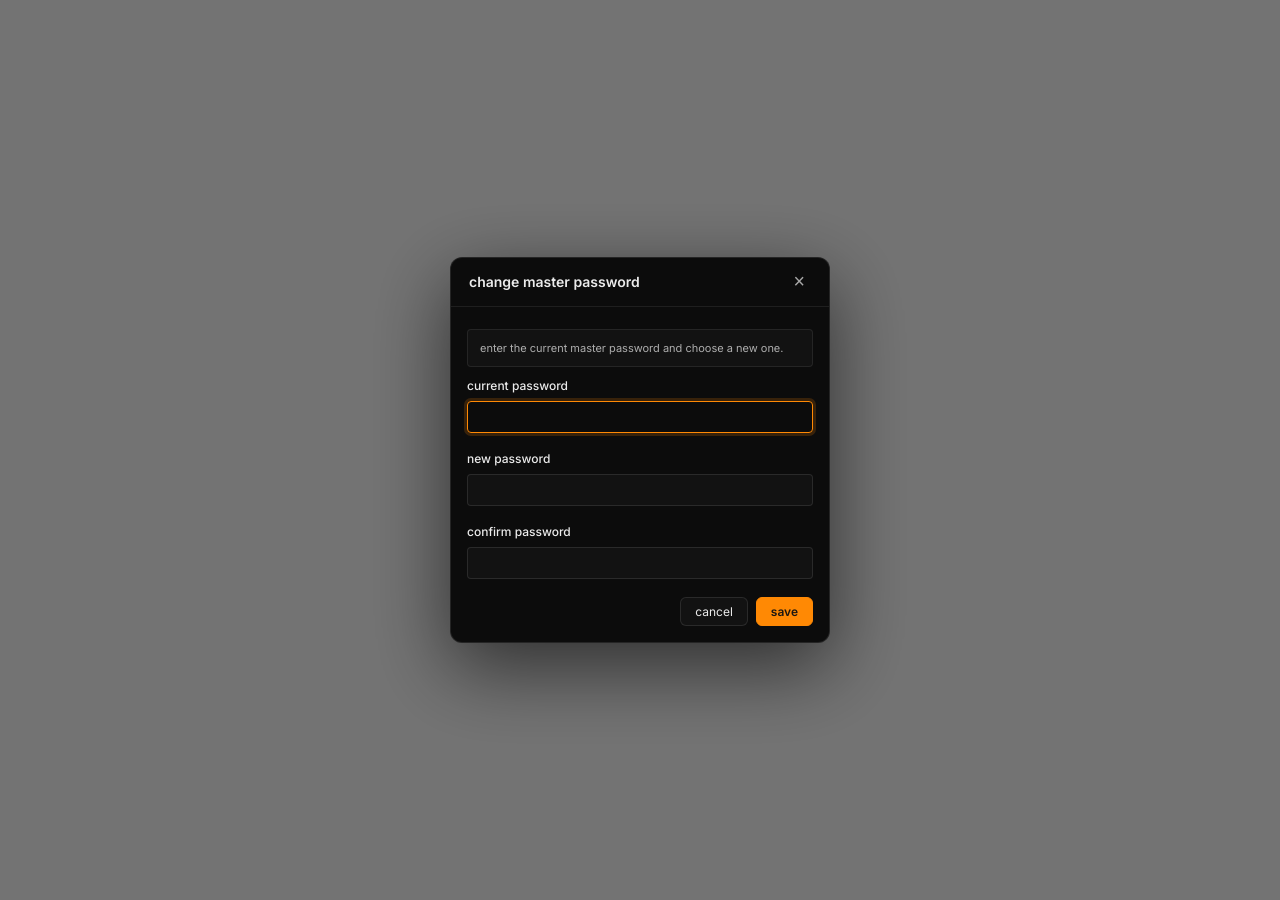
Test: MasterPasswordModal - change mode › missing current password errors
In the password field with class "settings-input" below "new password": {"x": 640, "y": 490} [467, 474, 813, 506], type "longenough"
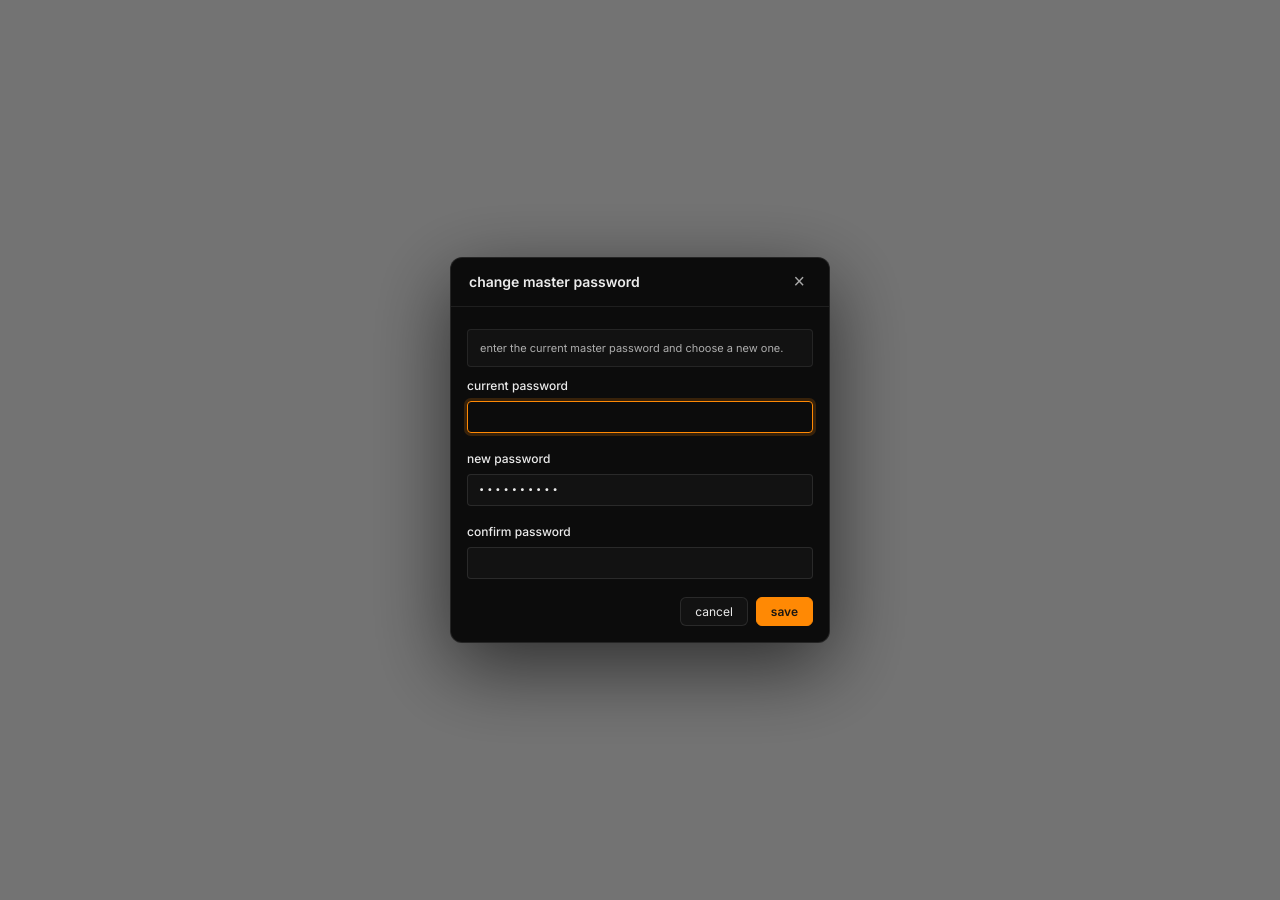
In the password field with class "settings-input" below "confirm password": {"x": 640, "y": 563} [467, 547, 813, 579], type "longenough"
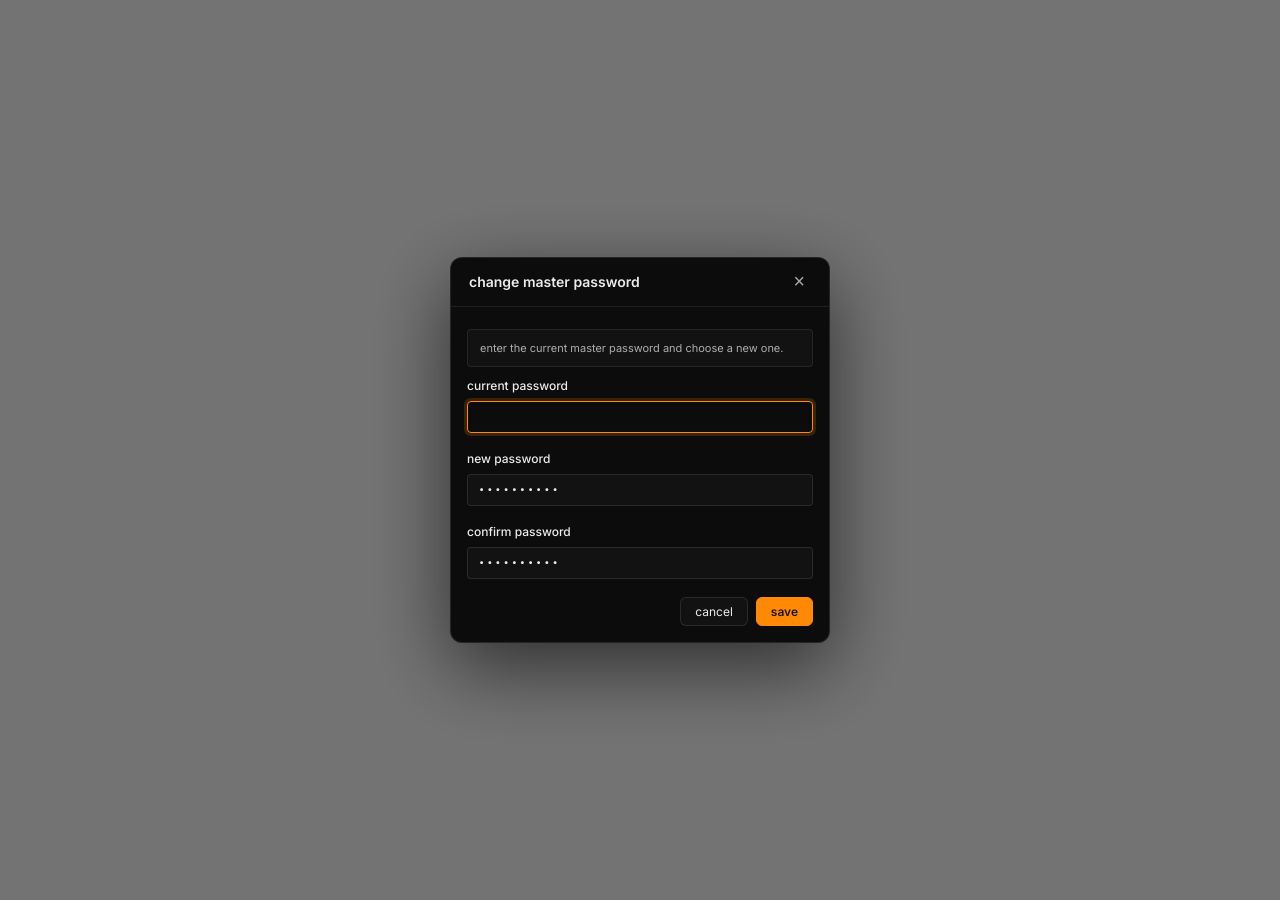
Click the button "save": {"x": 784, "y": 612} [756, 597, 813, 626]
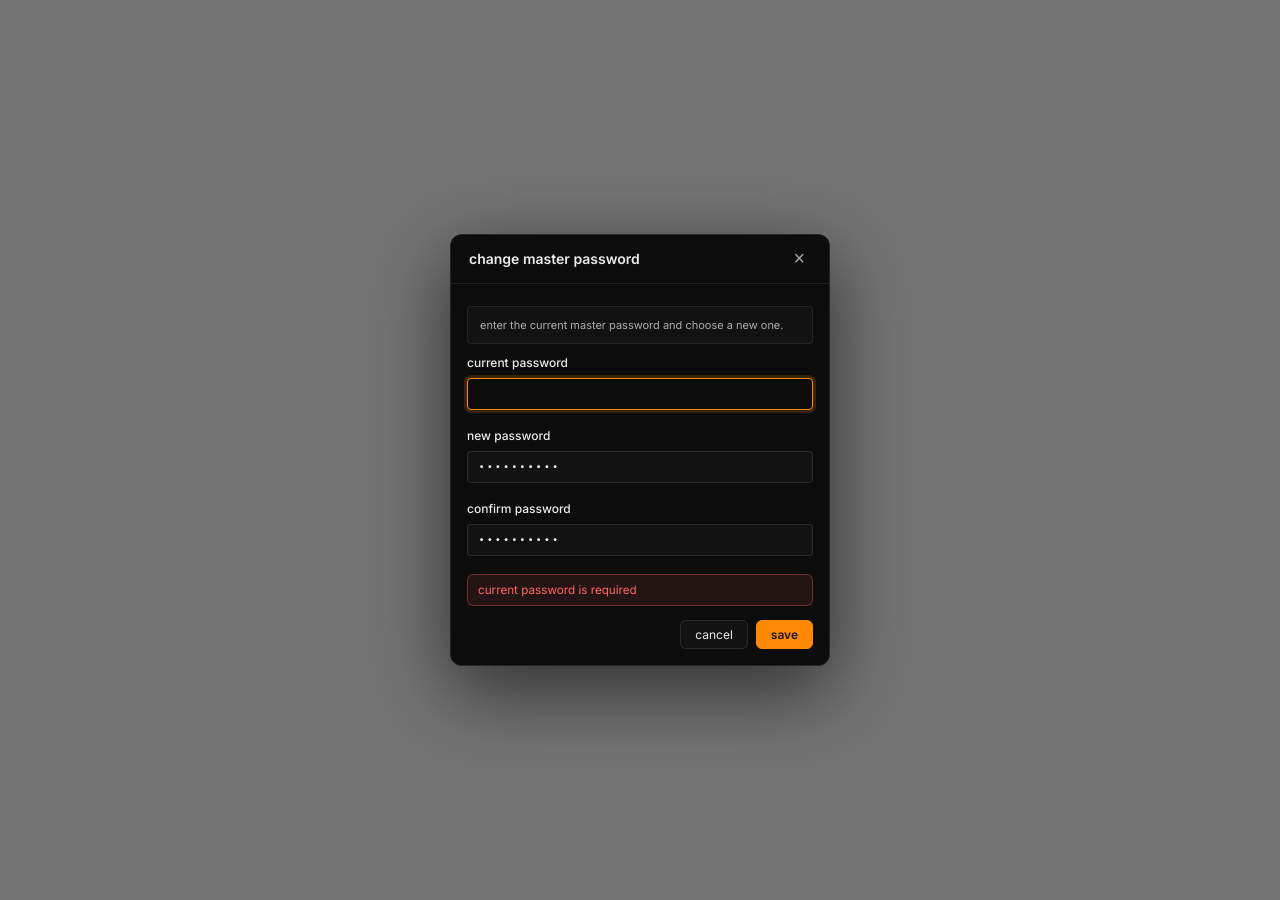
Now the text "current password is required" is shown, box [467, 574, 813, 606]
